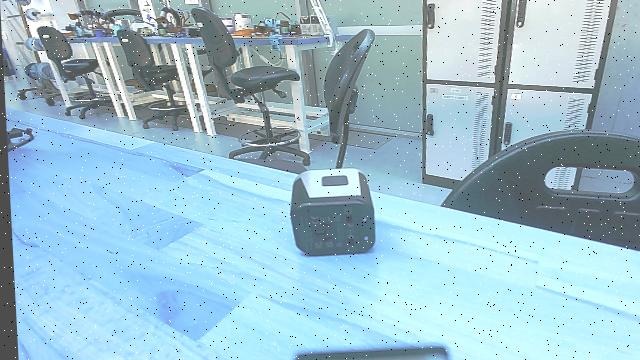adapter: (281, 161, 377, 259)
